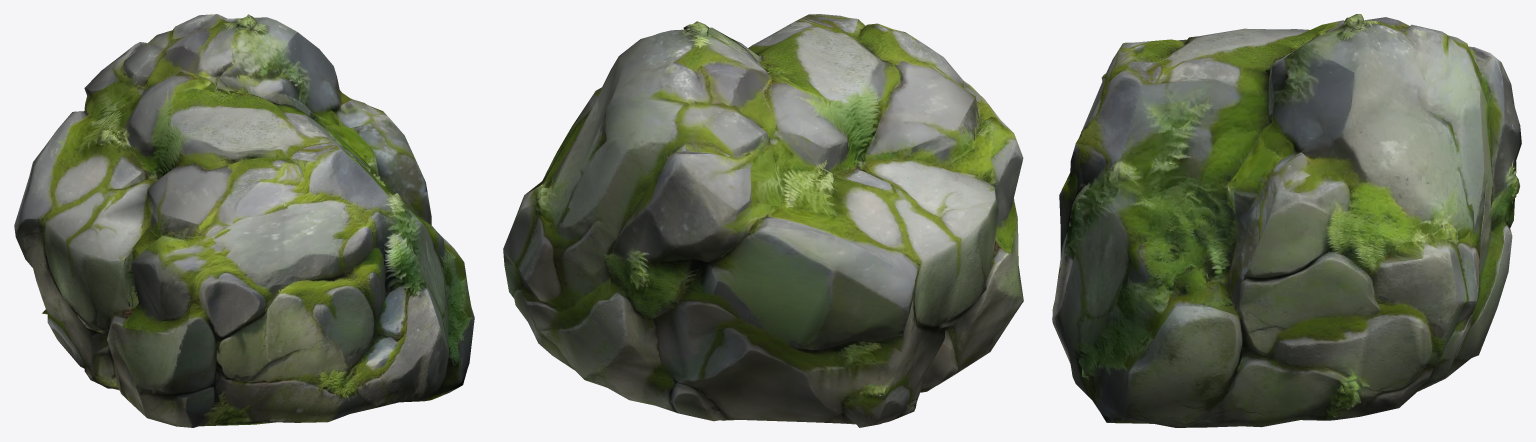
Rendered from rock_mossy_6.glb.
3 views of the same model, side by side, from view 1: azimuth 30°, elevation 25°; view 2: azimuth 150°, elevation 25°; view 3: azimuth 270°, elevation 25° (orthographic). The views are drawn at different scales.
Visible parts, largest first — view 1: mossy_green_rock6_LOW_RES; view 2: mossy_green_rock6_LOW_RES; view 3: mossy_green_rock6_LOW_RES.
Part boxes in pixels (x1=…): mossy_green_rock6_LOW_RES: x1=14, y1=14, x2=474, y2=427; mossy_green_rock6_LOW_RES: x1=503, y1=14, x2=1023, y2=427; mossy_green_rock6_LOW_RES: x1=1052, y1=14, x2=1521, y2=427.
Bounding box in the file's own units: 0.9623 × 0.8409 × 0.9978.
1 material, 1 textured.
